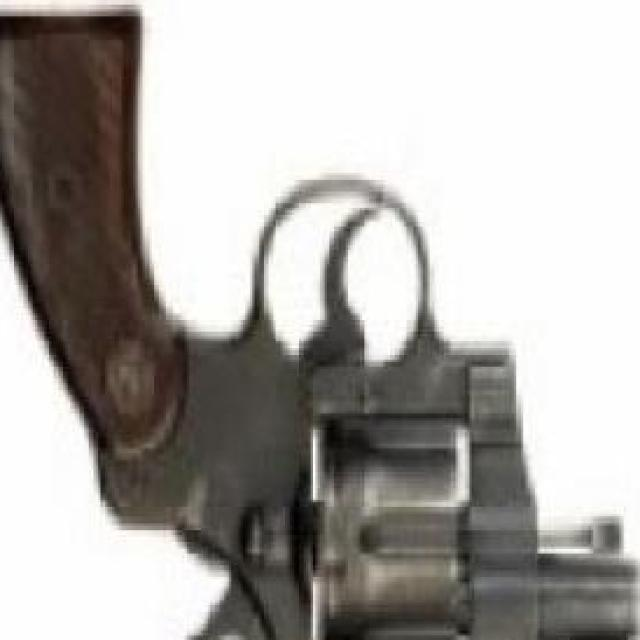pistol: (0, 9, 624, 640)
